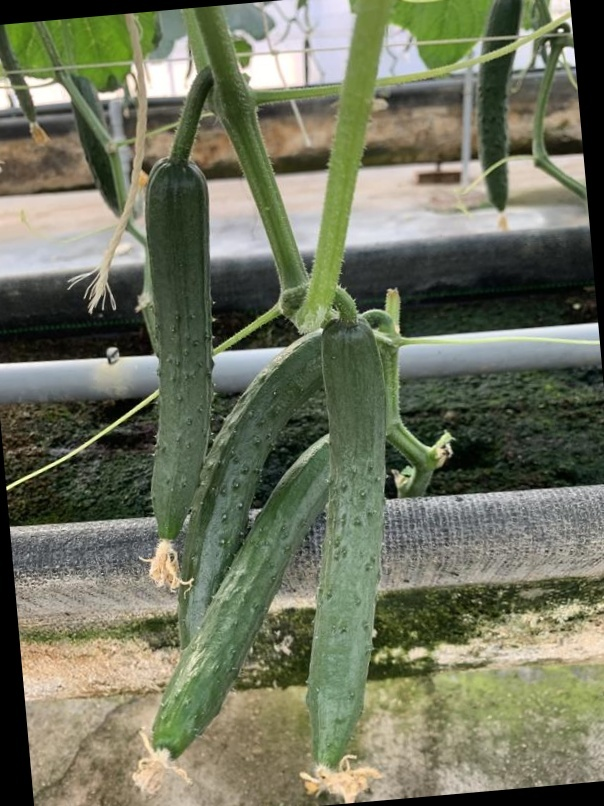mature: (144, 440, 339, 766), (174, 329, 330, 650), (299, 314, 392, 782), (138, 148, 216, 560)
